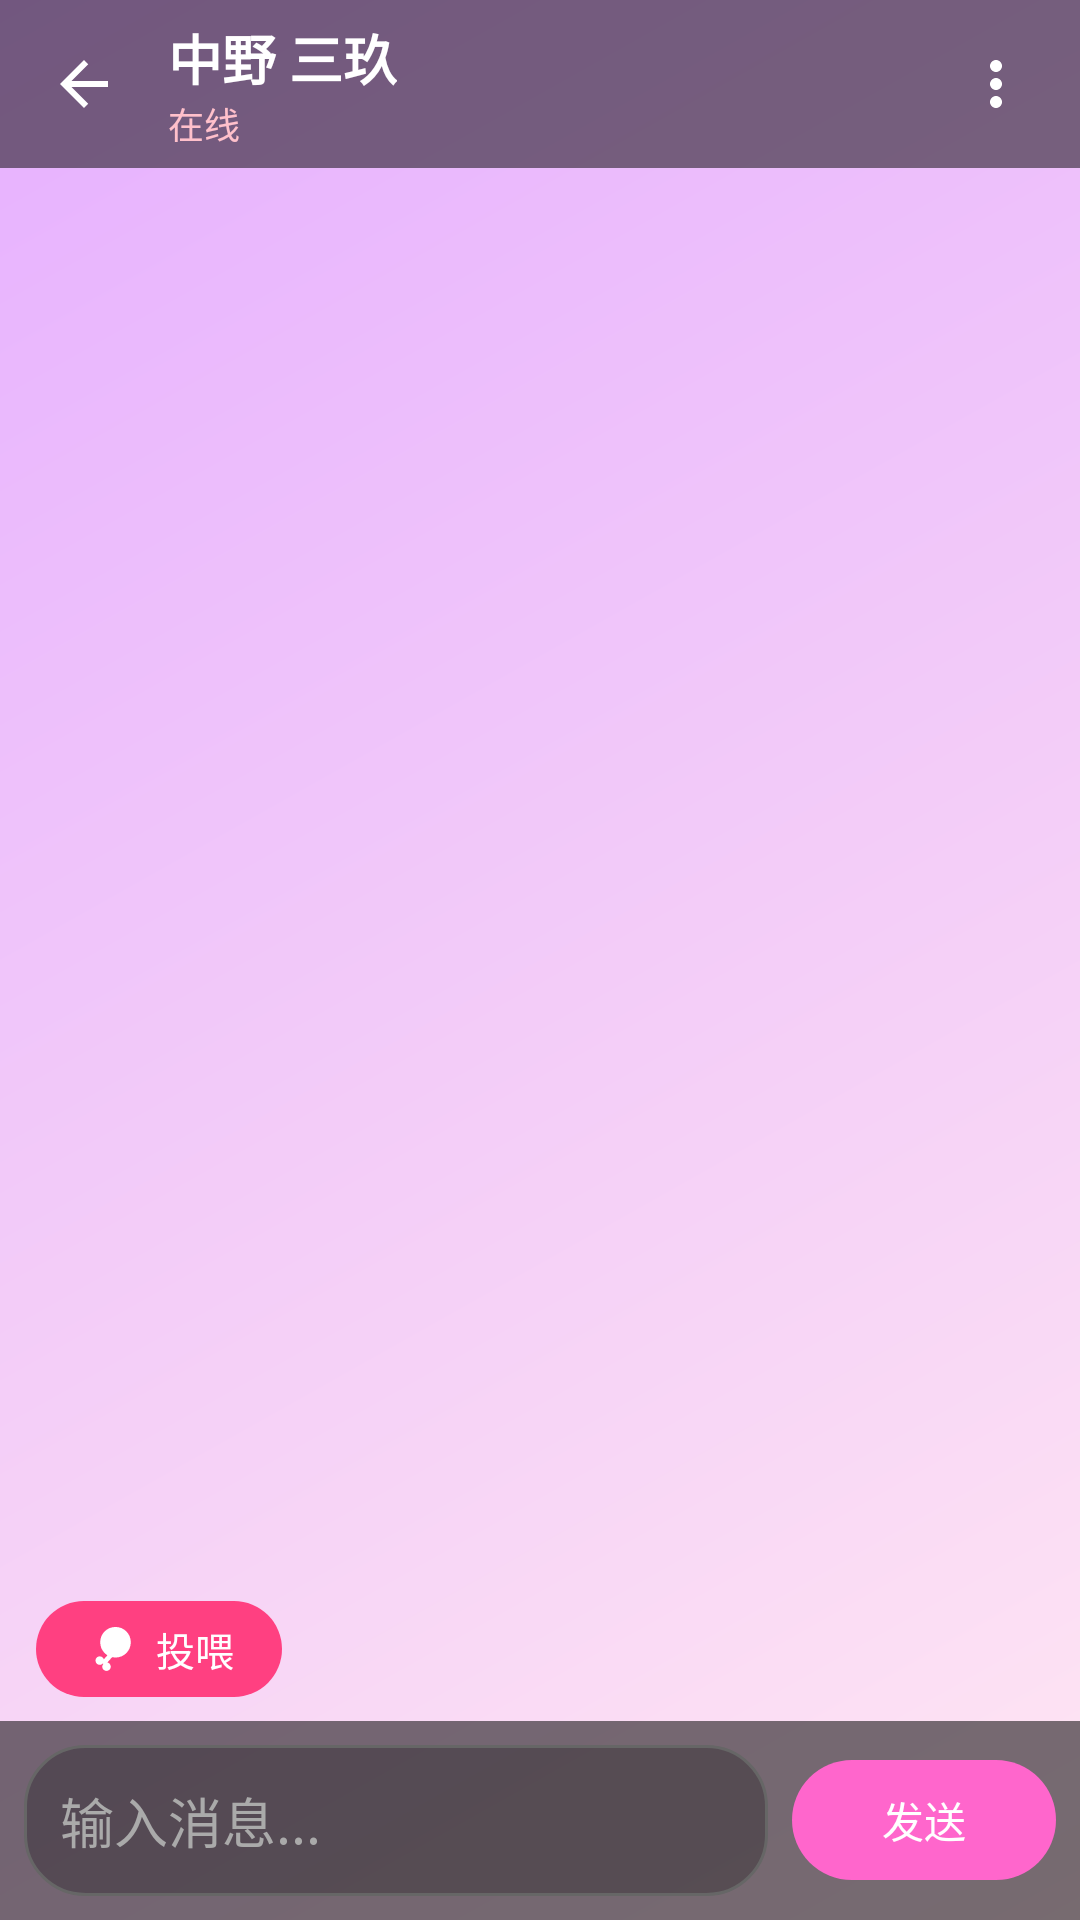

Icons on this 1080px×1920px Android screen, each with its box as rect(x1, y1, x2, y2):
back: rect(60, 60, 108, 108)
more: rect(990, 60, 1002, 108)
